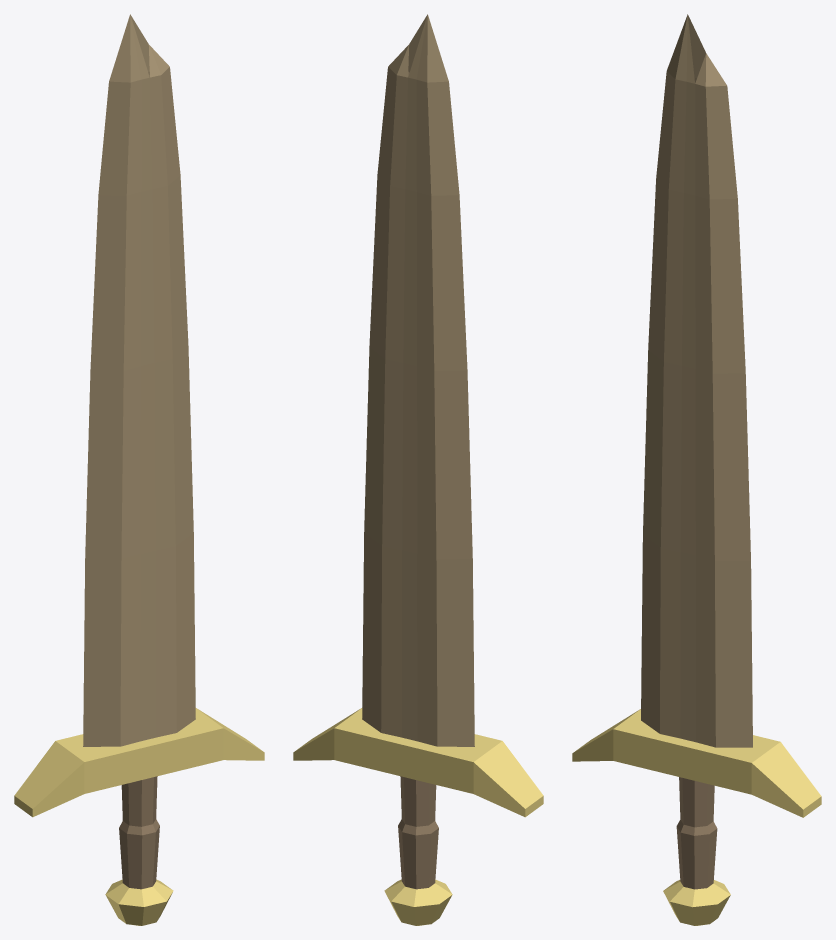
Rendered from gear_greatsword_v1.glb.
The picture shows the model from 3 angles, left to right: view 1: azimuth 30°, elevation 25°; view 2: azimuth 150°, elevation 25°; view 3: azimuth 330°, elevation 25°; orthographic projection.
Parts seen in each view (by area): view 1: gear_greatsword; view 2: gear_greatsword; view 3: gear_greatsword.
Part boxes in pixels (x1=…): gear_greatsword: x1=14, y1=14, x2=264, y2=925; gear_greatsword: x1=293, y1=14, x2=543, y2=925; gear_greatsword: x1=572, y1=14, x2=821, y2=925.
Size of the model in its own units: 0.35 by 1.32 by 0.0831.
